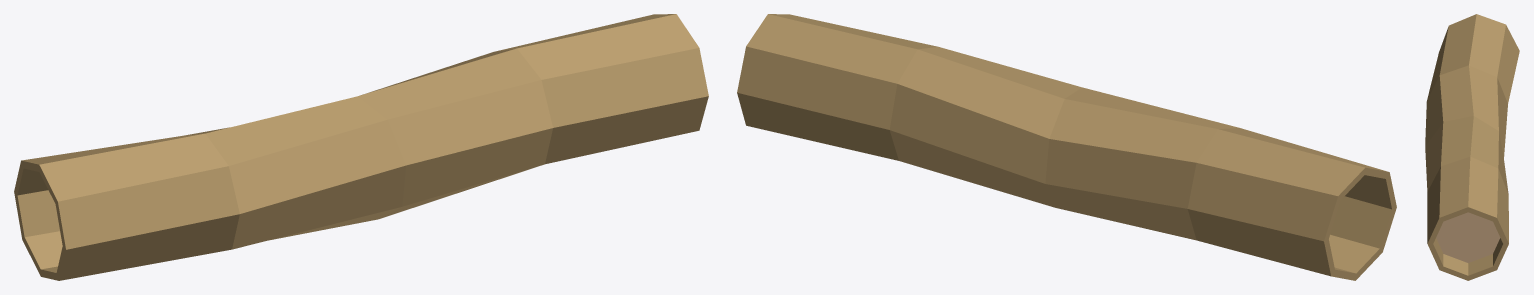
File: Acacia_Log_05_LOD.fbx
3 views of the same model, side by side, from view 1: azimuth 30°, elevation 25°; view 2: azimuth 150°, elevation 25°; view 3: azimuth 270°, elevation 25° (orthographic). The views are drawn at different scales.
Parts seen in each view (by area): view 1: Acacia_Log_05_LOD0; view 2: Acacia_Log_05_LOD0; view 3: Acacia_Log_05_LOD0.
Boxes of the visible parts, x1,y1,x2,y2 form: Acacia_Log_05_LOD0: (14, 14, 708, 280); Acacia_Log_05_LOD0: (737, 14, 1396, 280); Acacia_Log_05_LOD0: (1425, 14, 1519, 280).
Size of what is drawn, in the model's own units: 222 by 42.03 by 45.51.
